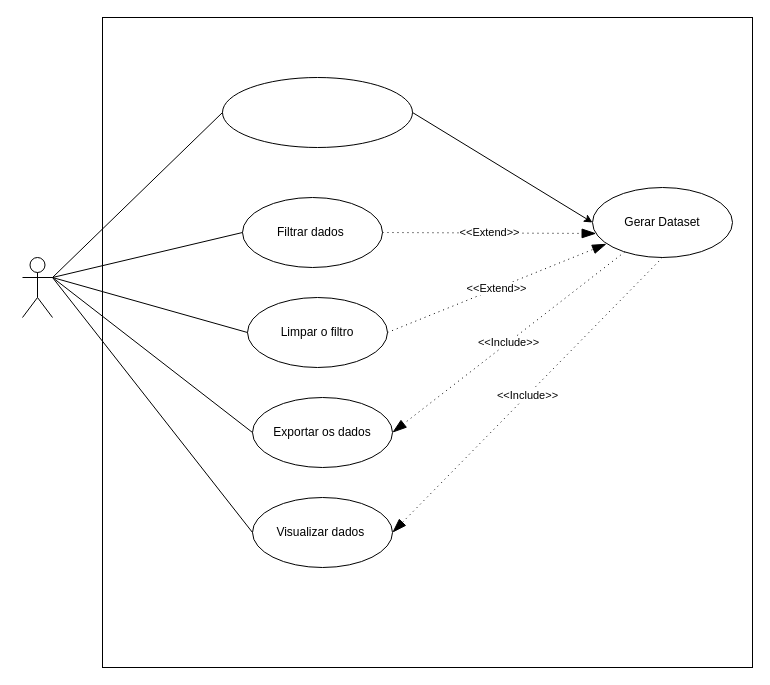
Some shapes in this 770 by 685 pixel diagram are drawn without their labels. The shapes that lost their labels are listed below. From the top down, each one's centre as x and y in pixels, then its label:
At (317,112): "Escolher o número de dados".
At (37,287): "Usuário".
